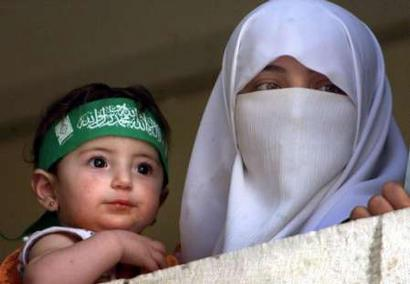NONE: (69, 140, 162, 232)
OK: (240, 52, 359, 171)
